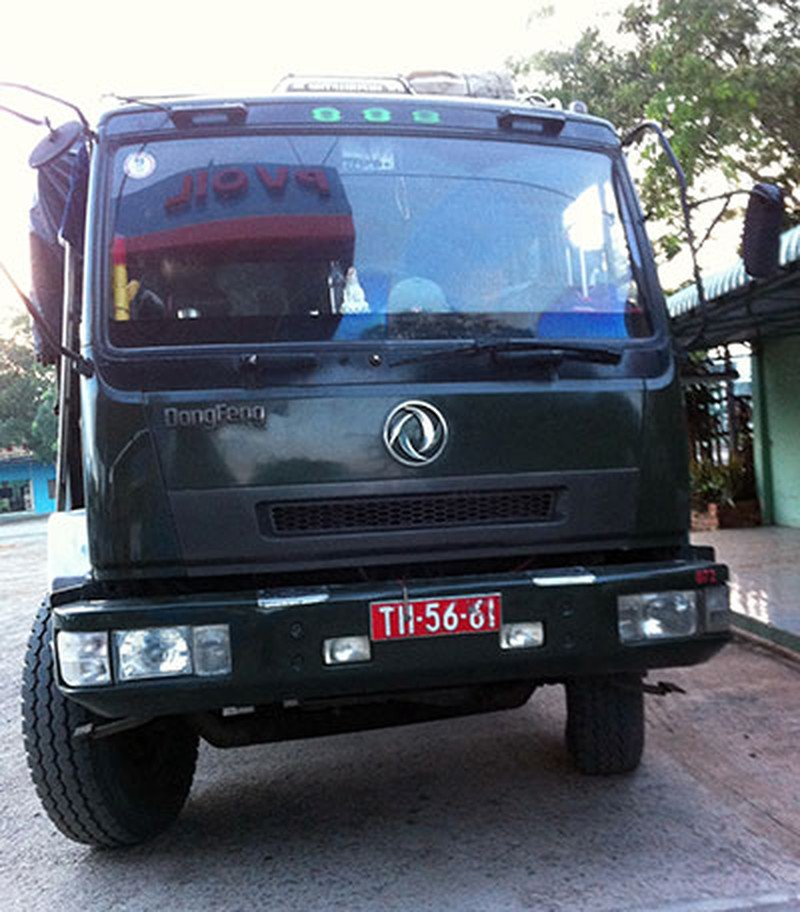plate: (361, 588, 510, 641)
